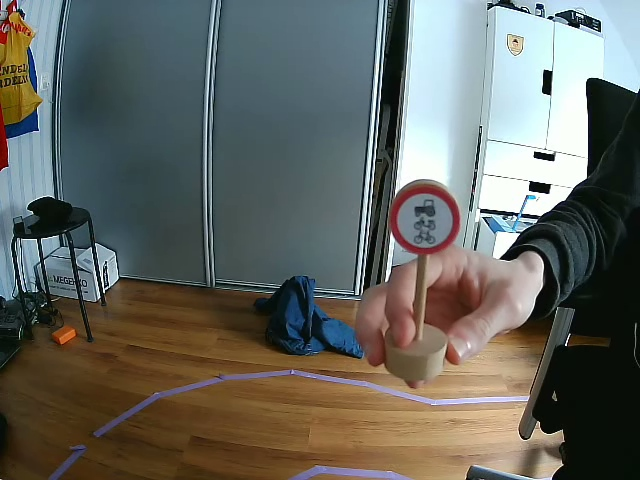fietspad: (389, 185, 460, 253)
